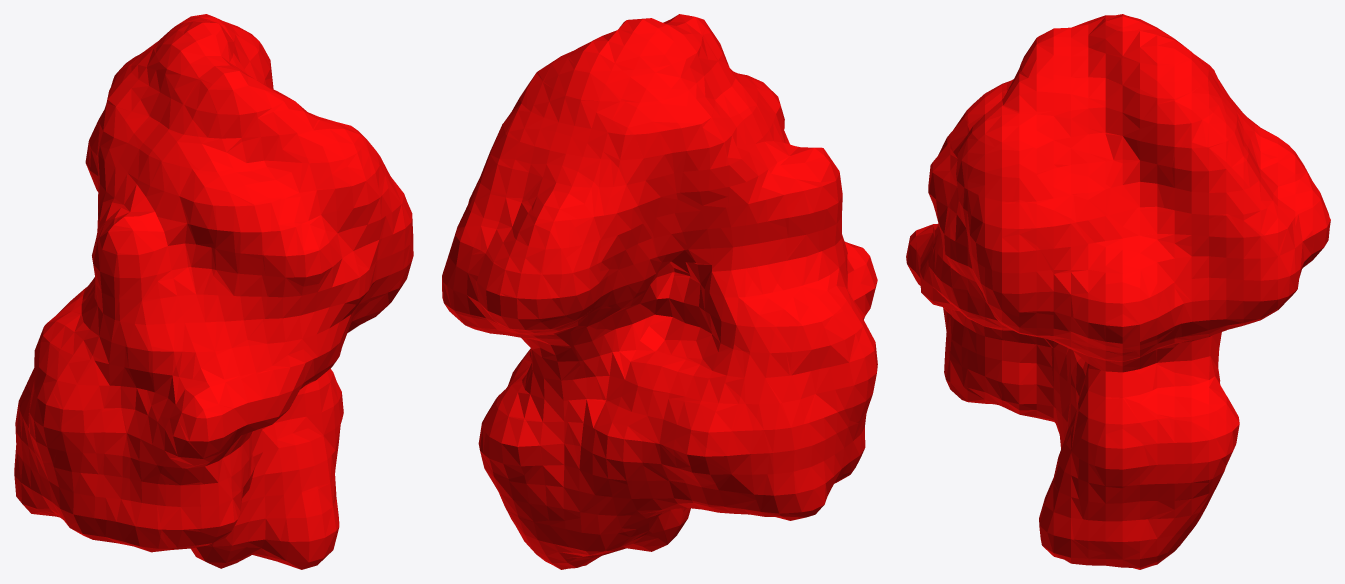
The model's file is lysC_coarse.dae.
3 views of the same model, side by side, from view 1: azimuth 30°, elevation 25°; view 2: azimuth 150°, elevation 25°; view 3: azimuth 270°, elevation 25° (orthographic). The views are drawn at different scales.
Parts seen in each view (by area): view 1: lysC; view 2: lysC; view 3: lysC.
Boxes of the visible parts, left/top/right/bottom form: lysC: left=14, top=14, right=413, bottom=569; lysC: left=442, top=14, right=877, bottom=569; lysC: left=906, top=14, right=1330, bottom=569.
Bounding box in the file's own units: 58.14 × 82.57 × 61.01.
